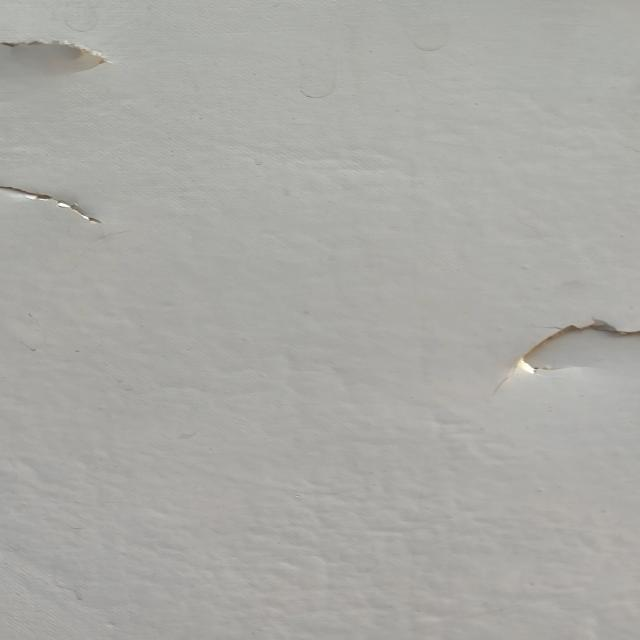Scratches: (512, 306, 640, 376), (1, 179, 135, 235), (3, 37, 118, 92)
